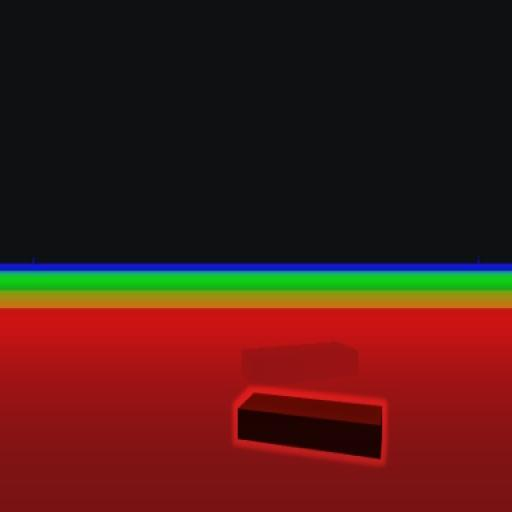debris_container: (236, 385, 384, 461)
